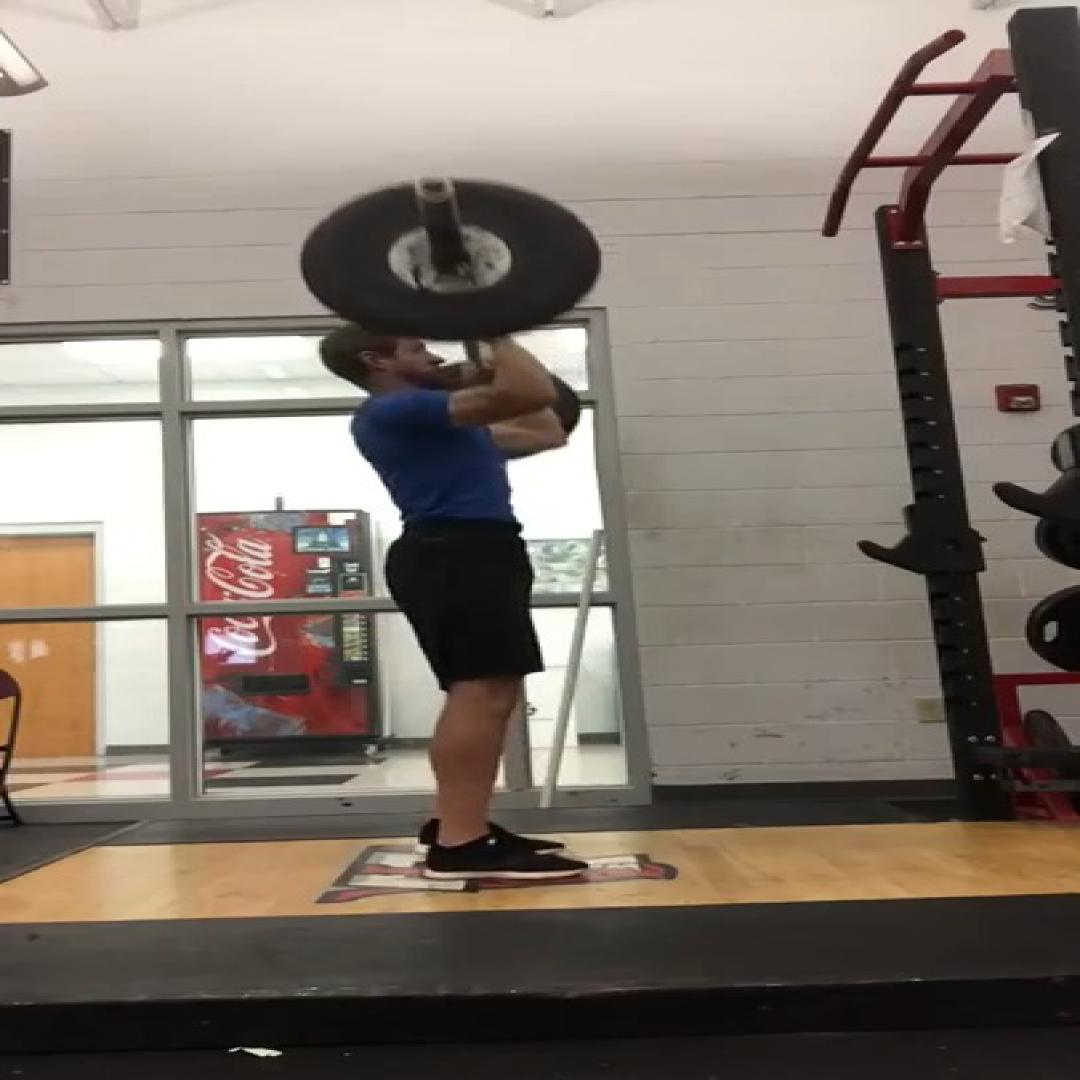Bar: (410, 175, 460, 202)
Barbell: (301, 180, 601, 340)
